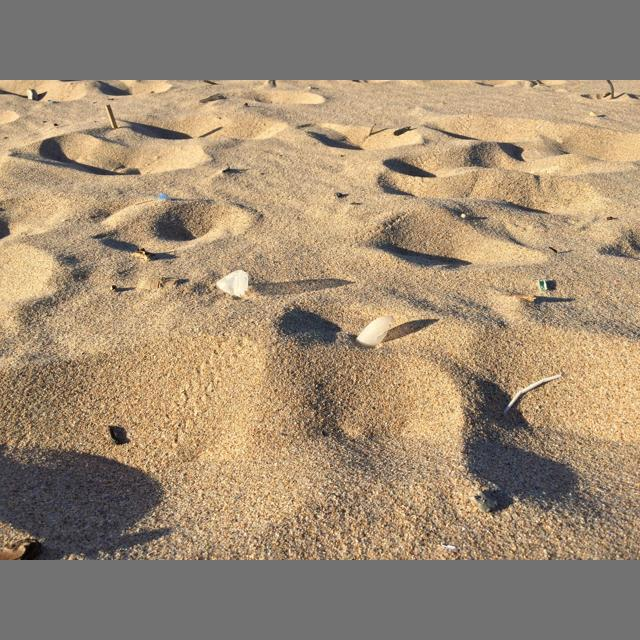litter: (503, 374, 562, 413), (355, 316, 394, 347), (216, 270, 249, 297), (537, 279, 547, 292), (157, 192, 171, 200)
